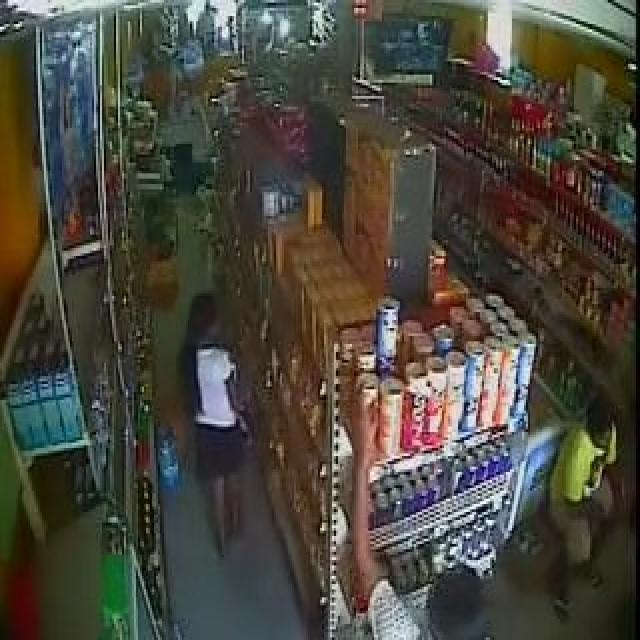normal: (306, 370, 506, 640), (178, 285, 274, 564), (540, 359, 637, 632)
